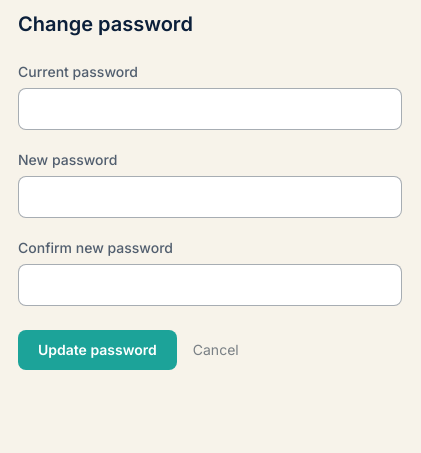
ChangePasswordPage › shows error when current password is incorrect
This screenshot has width=421, height=453.
Step 1. Type "oldpass" into the password field labelled "Current password" → [210, 109], box [18, 88, 402, 130]
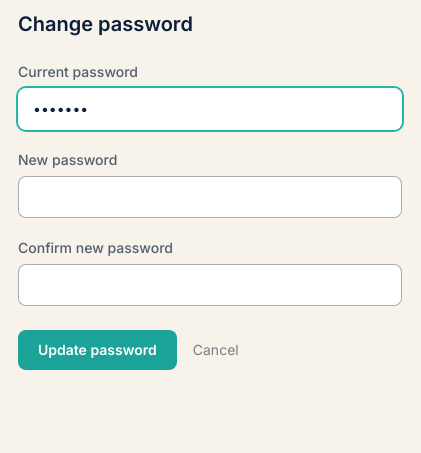
Step 2. Type "newpass123" into the password field labelled "New password" → [210, 197], box [18, 176, 402, 218]
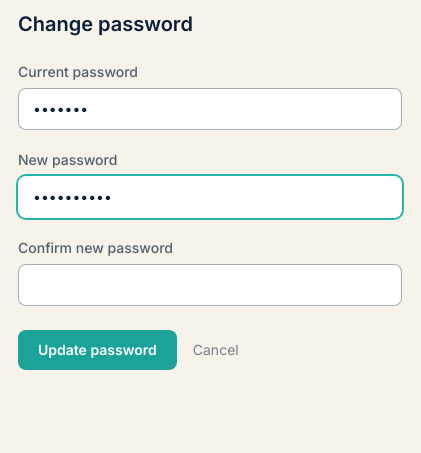
Step 3. Type "newpass123" into the password field labelled "Confirm new password" → [210, 285], box [18, 264, 402, 306]
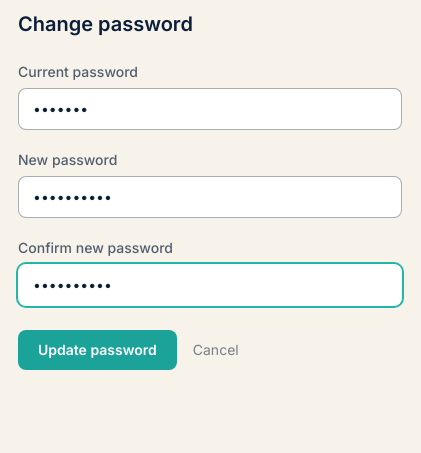
Step 4. Click the button "Update password" → [97, 350], box [18, 330, 177, 370]
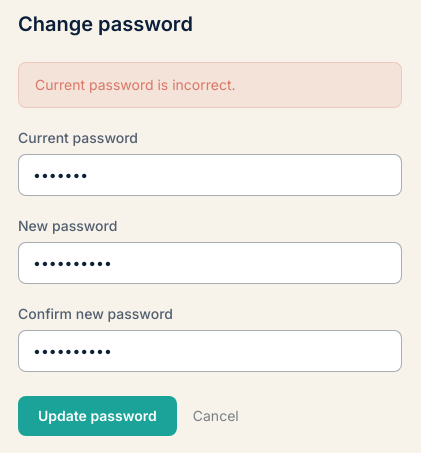
Result: the message reads "Current password is incorrect." at [35, 76, 236, 93]
